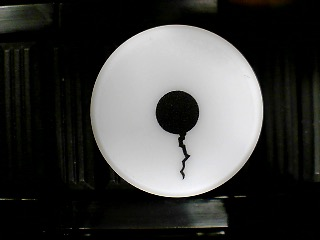CRACK: (90, 24, 263, 198)
